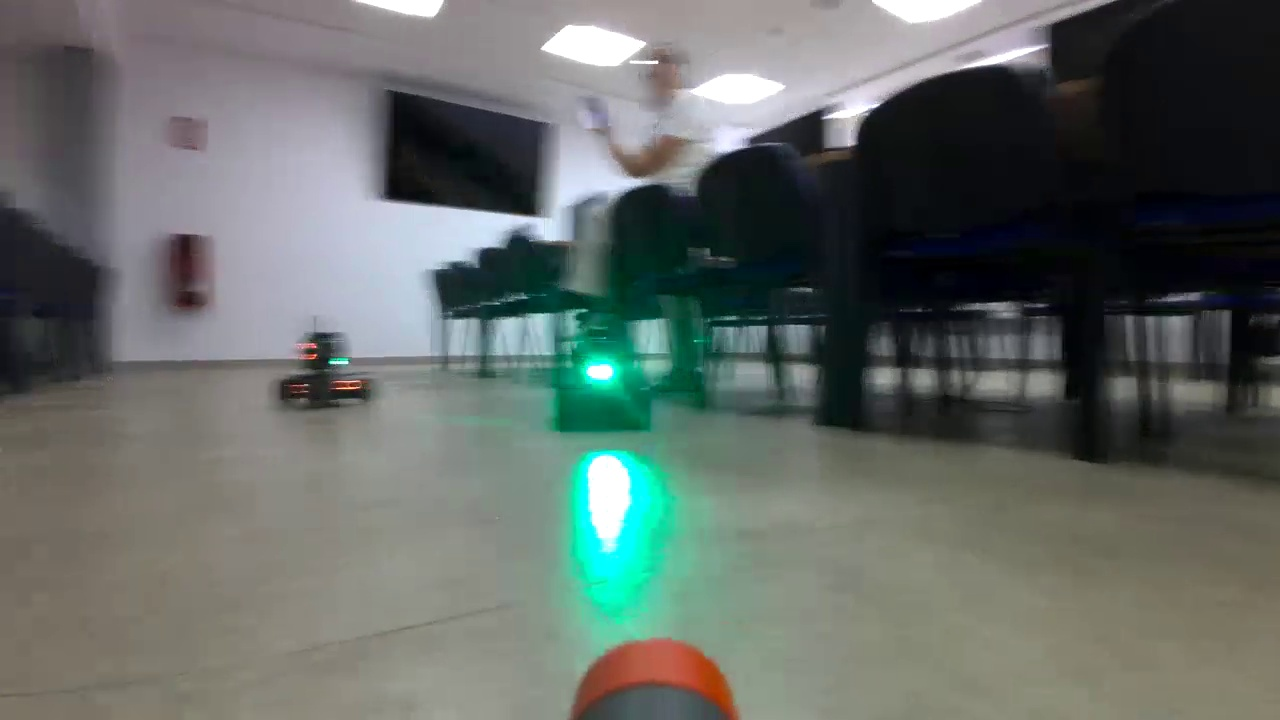robot: (552, 340, 650, 448), (278, 345, 375, 418)
